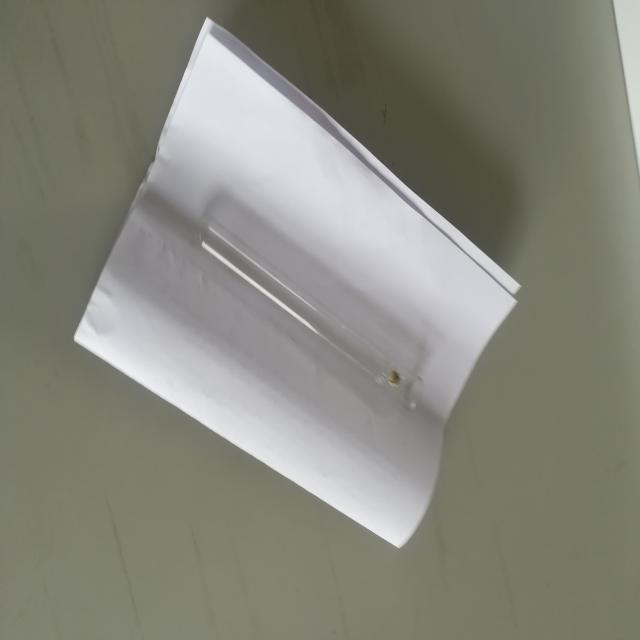Test_Tube: (176, 188, 438, 435)
